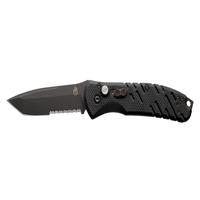knife: (5, 76, 198, 126)
